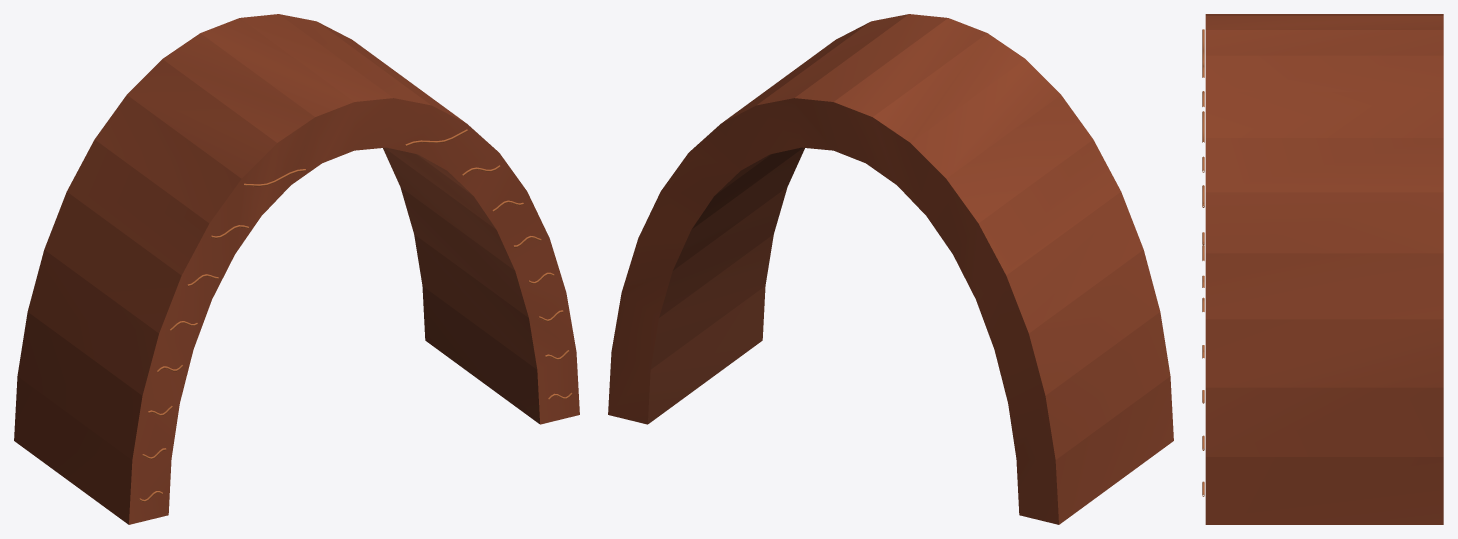
Rendered from beef_cave_clearance.glb.
3 renders of one model, left to right at view 1: azimuth 30°, elevation 25°; view 2: azimuth 150°, elevation 25°; view 3: azimuth 270°, elevation 25°, orthographic. The views are drawn at different scales.
Visible parts, largest first — view 1: beef_cave_Palette; view 2: beef_cave_Palette; view 3: beef_cave_Palette.
Part boxes in pixels (x1=…): beef_cave_Palette: x1=14, y1=14, x2=579, y2=524; beef_cave_Palette: x1=608, y1=14, x2=1173, y2=524; beef_cave_Palette: x1=1202, y1=14, x2=1443, y2=524.
Bounding box in the file's own units: 6.8 × 5.3 × 3.04.
